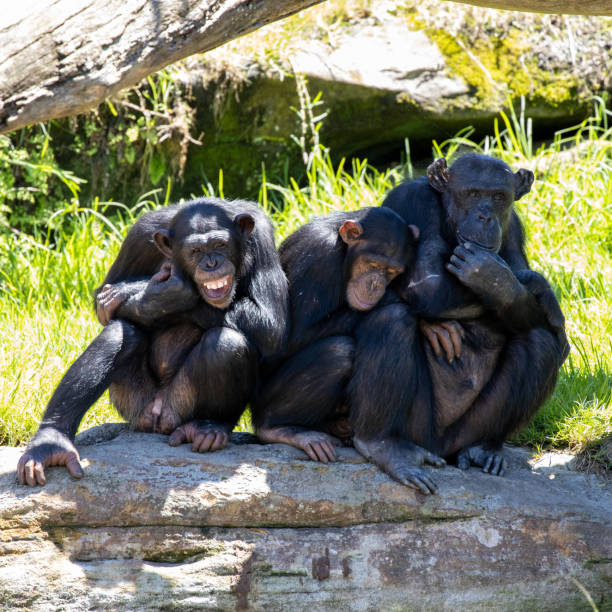chimpanzee: (153, 192, 276, 327), (436, 145, 545, 286), (324, 194, 425, 346)
